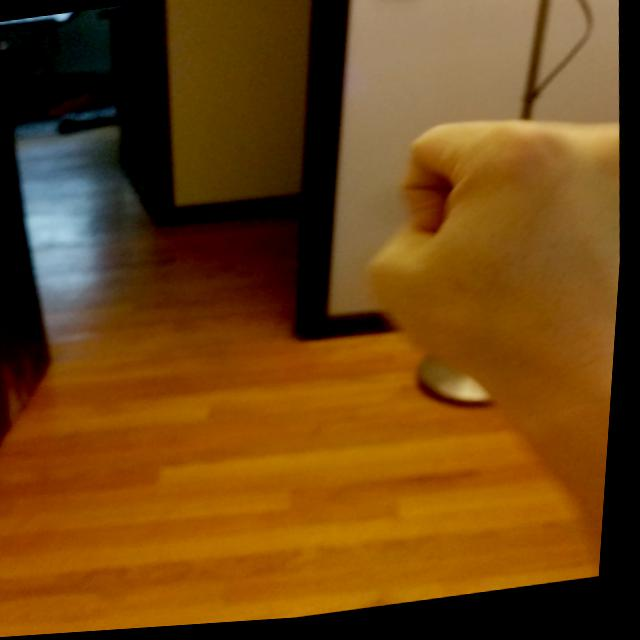J: (329, 96, 632, 409)
